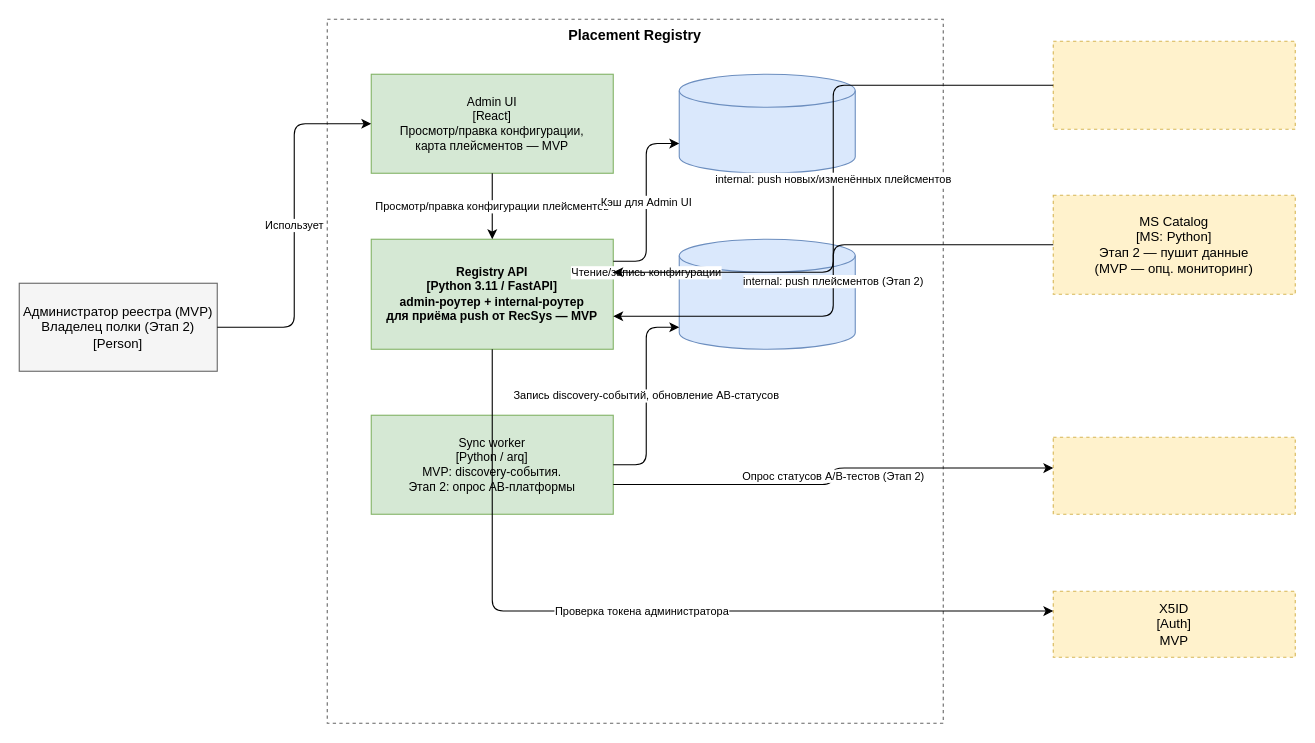
This 1315x743 diagram has some shape labels left out. Here are the shapes that lost their labels. From the top down, the centre of each, then its label:
At point 1173,84: "RecSys (PA Api) [MS: Go] MVP — пушит данные".
At point 766,123: "Redis [KVDB, cashews] Кэш для Admin UI — MVP (опц.)".
At point 766,293: "PostgreSQL [RDBMS, SQLAlchemy+Alembic] Конфигурация плейсментов, audit log — MVP".
At point 1173,475: "AB-платформа [MS] Этап 2".
